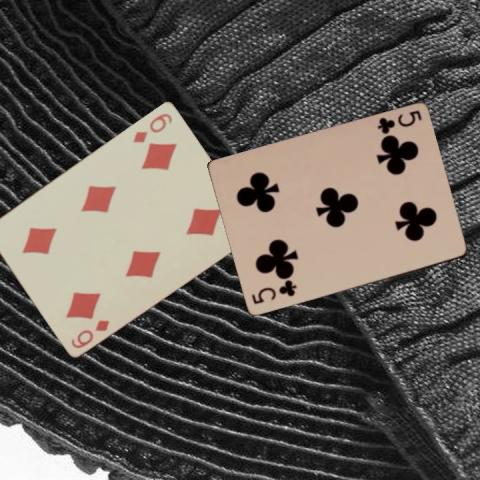5c: (374, 107, 423, 136), (248, 279, 298, 306)
6d: (130, 109, 173, 144), (68, 316, 111, 349)
